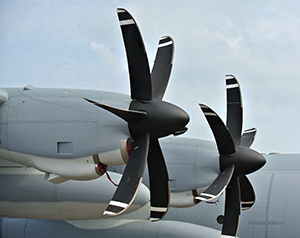Propeller: (94, 9, 188, 221), (199, 66, 267, 233)
